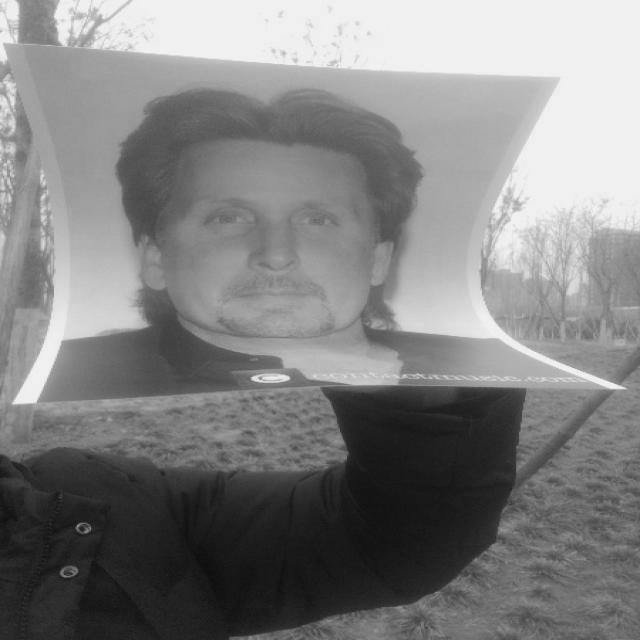fake: (8, 38, 626, 408)
